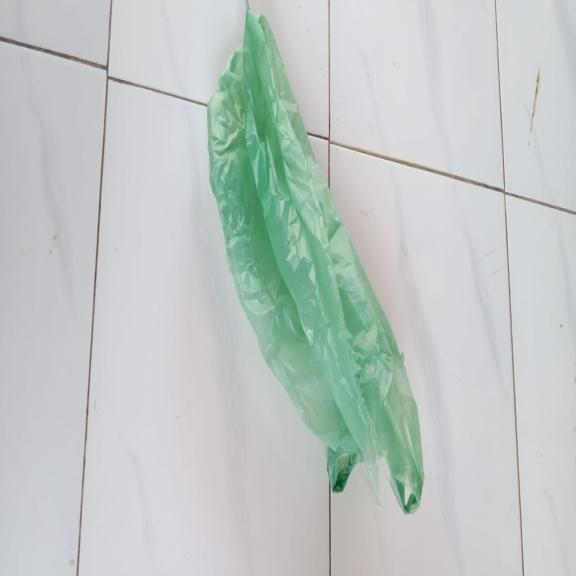Plastik: (206, 2, 426, 518)
